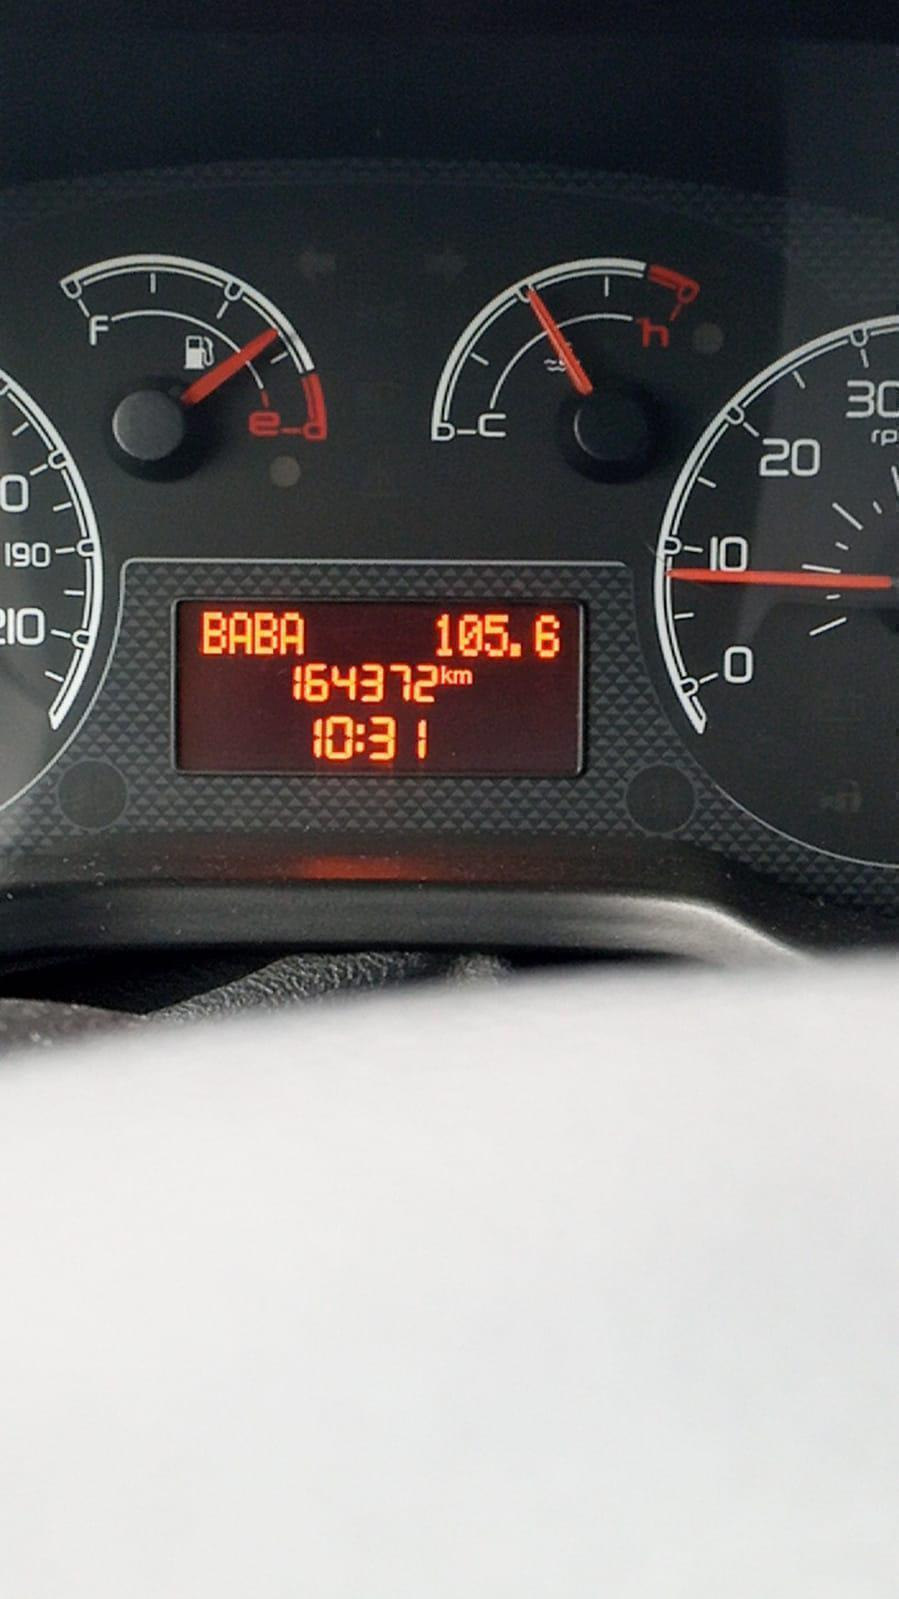,: (509, 639, 524, 660)
0: (325, 714, 352, 763), (457, 611, 483, 658)
1: (432, 611, 453, 659), (414, 715, 429, 763), (311, 714, 322, 762), (292, 662, 302, 706)
2: (413, 663, 435, 704)
3: (369, 714, 396, 761), (359, 662, 384, 702)
4: (330, 664, 356, 701)
5: (483, 611, 510, 659)
6: (533, 610, 563, 661), (303, 661, 330, 704)
7: (390, 661, 411, 704)
X: (202, 608, 227, 657), (254, 610, 279, 656), (279, 610, 304, 655), (228, 611, 251, 656), (353, 722, 367, 753), (453, 668, 472, 685), (440, 663, 452, 686)
odometer: (162, 594, 595, 784)
